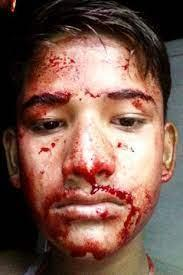Fire: (43, 159, 158, 258), (32, 48, 78, 83), (86, 90, 100, 98), (132, 100, 142, 110), (40, 148, 51, 154), (51, 143, 55, 148)
